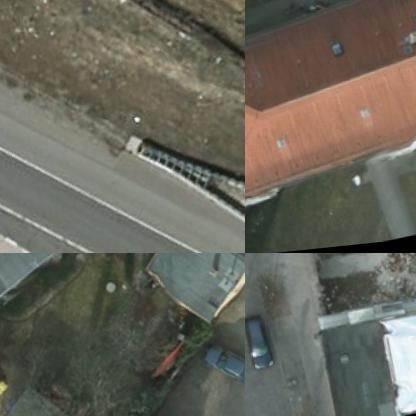car: (195, 341, 244, 401), (245, 319, 271, 378)
